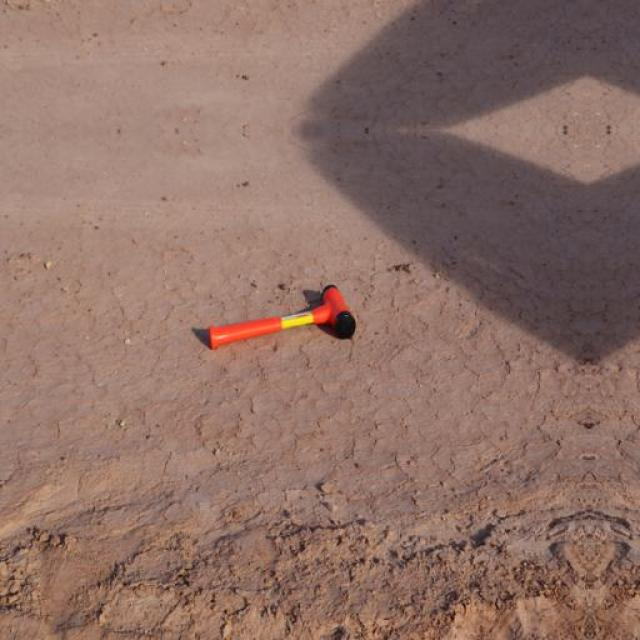mallet: (202, 282, 358, 350)
